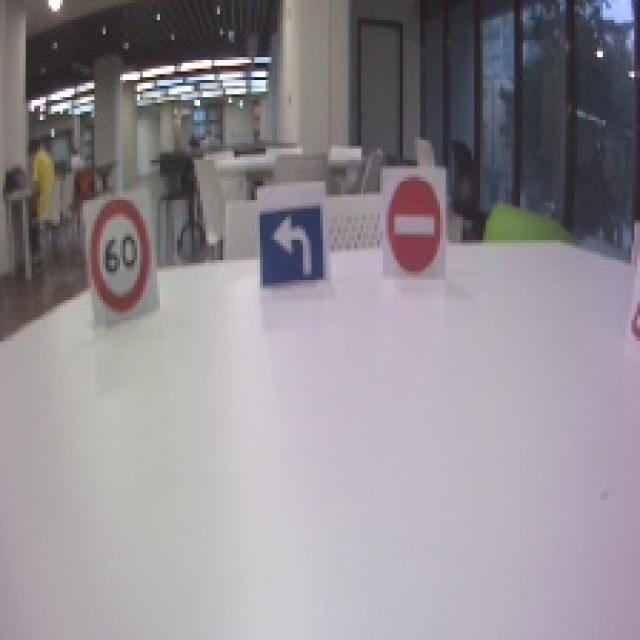DoNotEnterSign: (385, 175, 442, 279)
